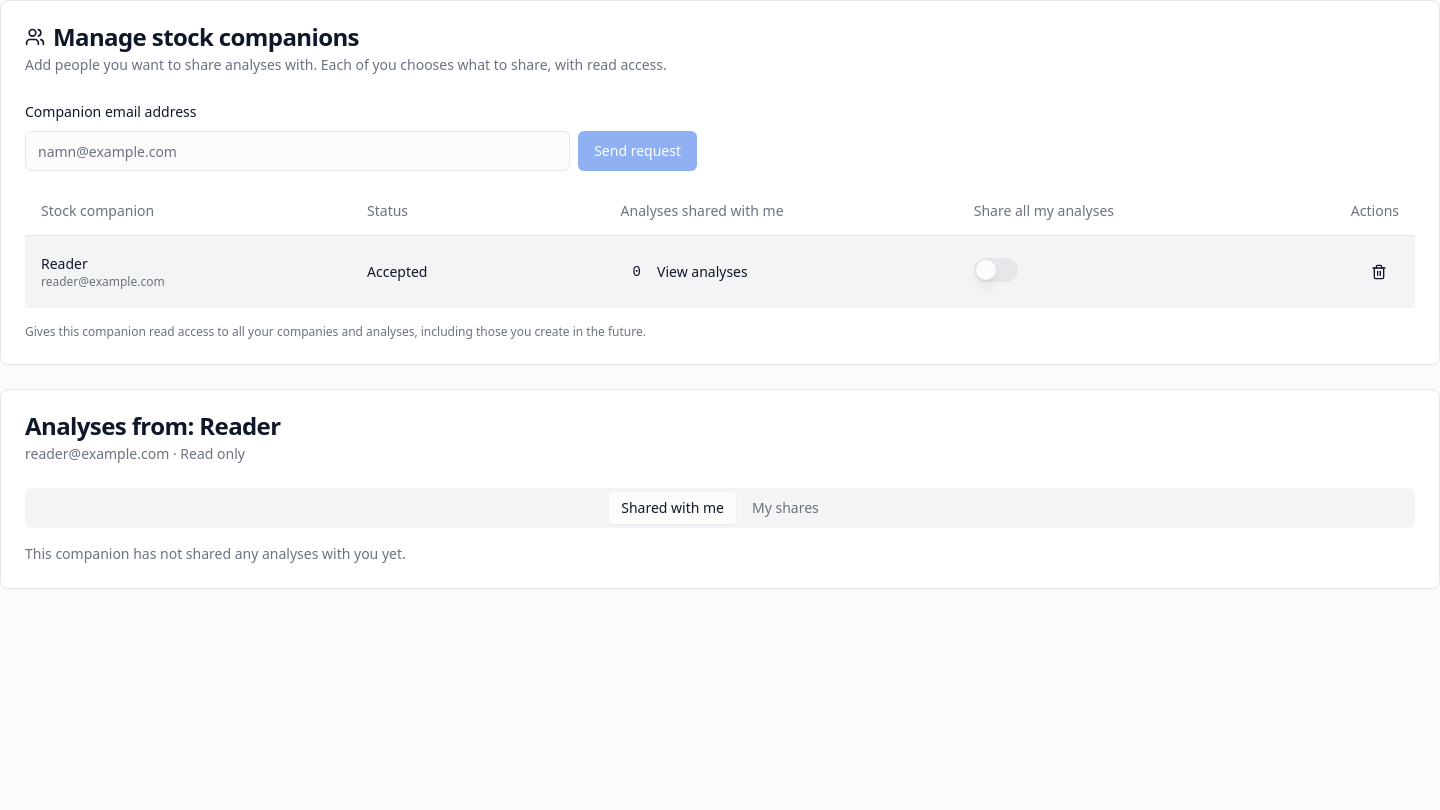
Test: stock companion page › sends a normalized request and shows newly pending companions
Expected: the text "Reader" is shown, [41,254,88,272]
Type "New@Example.com" into the field labelled "Companion email address" at (298, 151), box [25,131,570,171]
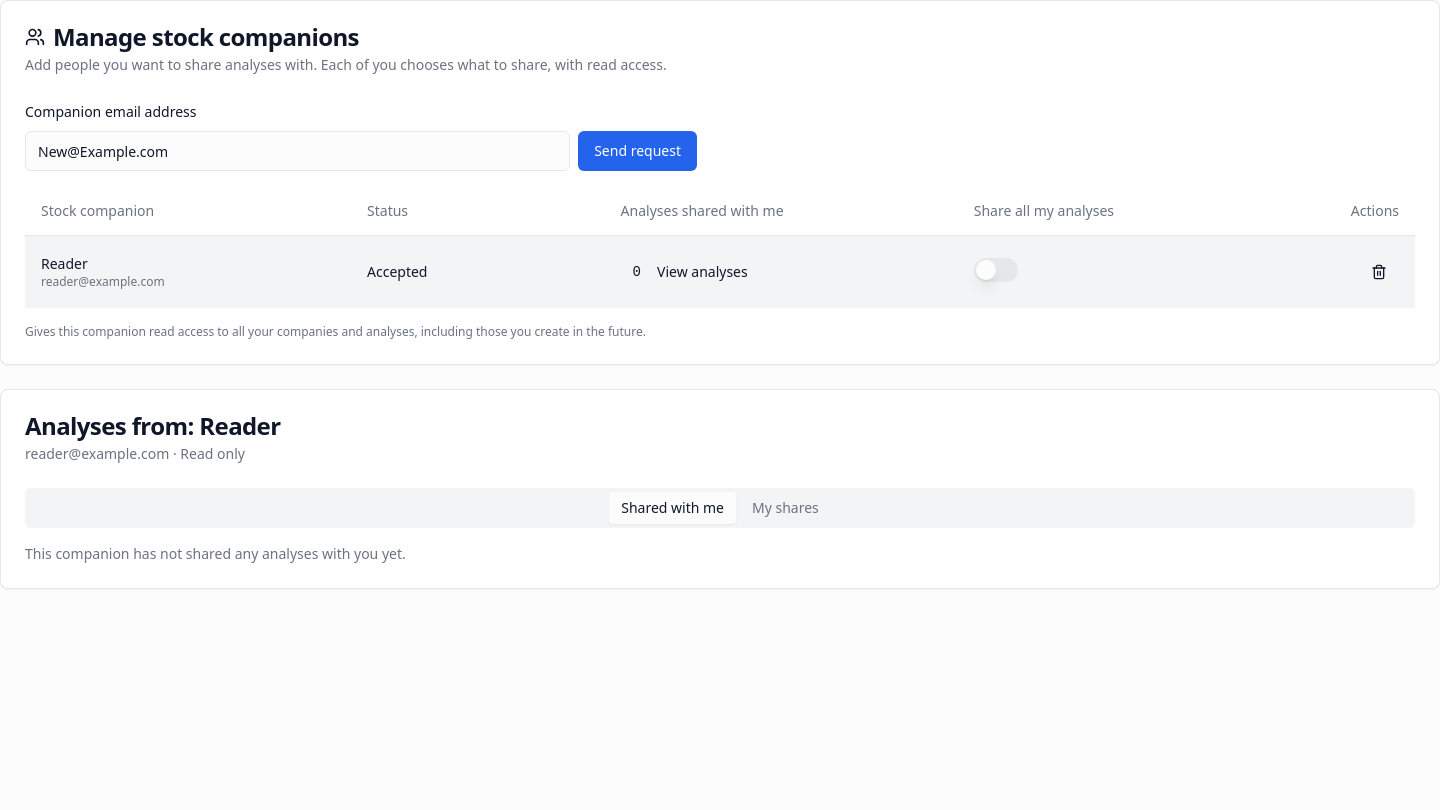
Click the button "Send request" at (638, 151), box [578,131,697,171]
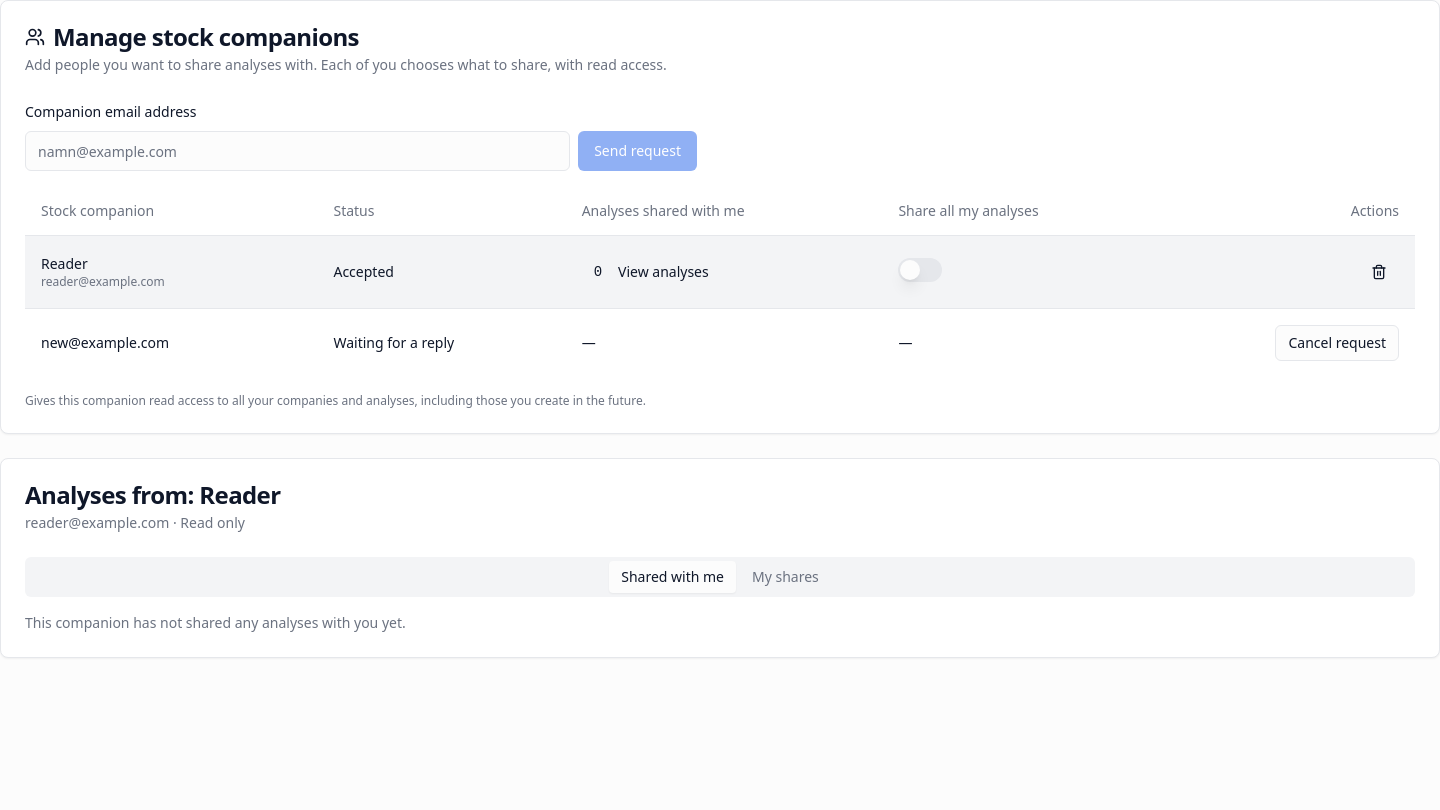
Expected: the text "Waiting for a reply" is shown, [318,308,566,376]
Expected: the field labelled "Companion email address" is empty, [25,131,570,171]
